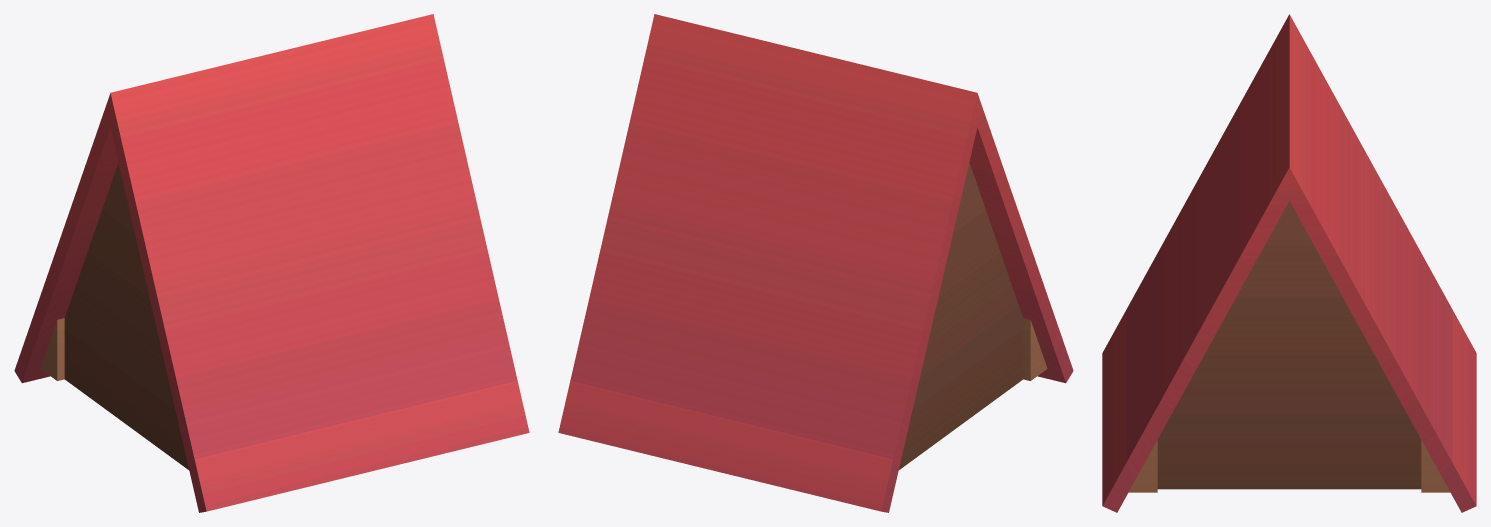
Rendered from roof-high-gable.glb.
3 renders of one model, left to right at view 1: azimuth 30°, elevation 25°; view 2: azimuth 150°, elevation 25°; view 3: azimuth 270°, elevation 25°, orthographic. The views are drawn at different scales.
Parts seen in each view (by area): view 1: roof-high-gable; view 2: roof-high-gable; view 3: roof-high-gable.
Boxes of the visible parts, x1,y1,x2,y2 form: roof-high-gable: (14,14,529,512); roof-high-gable: (558,14,1073,512); roof-high-gable: (1102,14,1476,512).
Bounding box in the file's own units: 1.1 × 1.16 × 1.13.
Materials: 1 (1 with a texture image).
